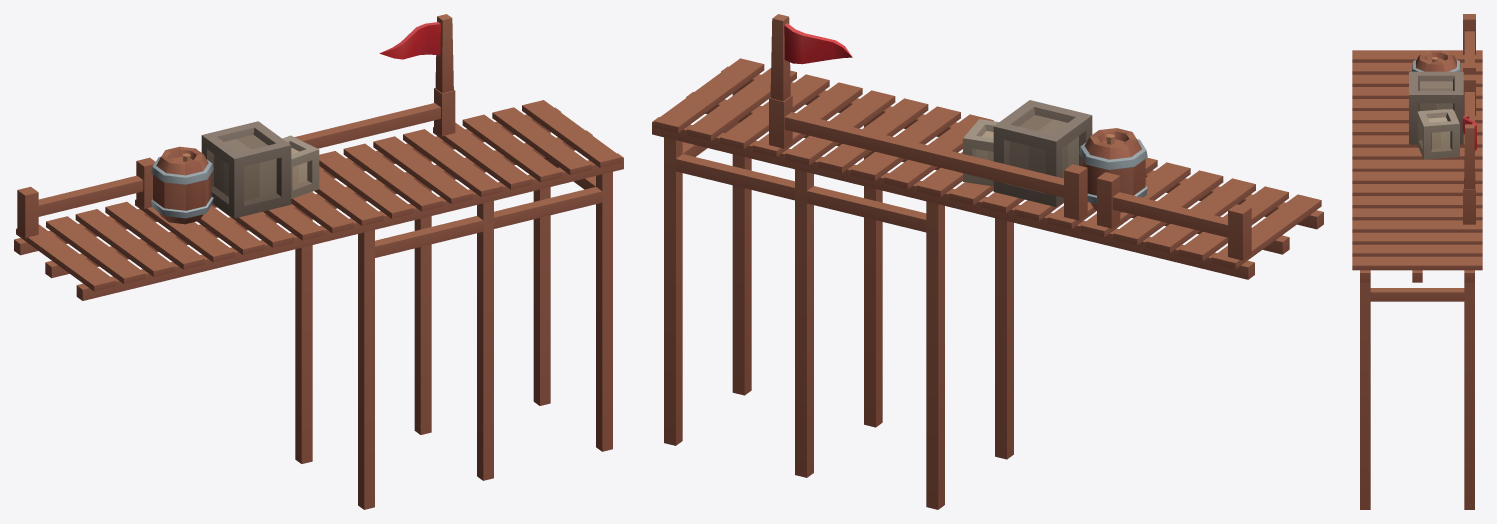
The model's file is docks.glb.
3 renders of one model, left to right at view 1: azimuth 30°, elevation 25°; view 2: azimuth 150°, elevation 25°; view 3: azimuth 270°, elevation 25°, orthographic. The views are drawn at different scales.
Parts seen in each view (by area): view 1: docks; view 2: docks; view 3: docks.
Part boxes in pixels (left/top/right/bottom): docks: left=14, top=14, right=623, bottom=509; docks: left=652, top=14, right=1323, bottom=509; docks: left=1352, top=14, right=1482, bottom=509.
Size of the model in its own units: 1 by 0.7222 by 0.25.
1 material, 1 textured.
